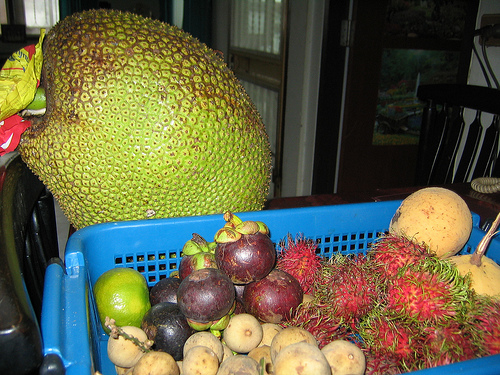jackfruit: (17, 8, 273, 232)
